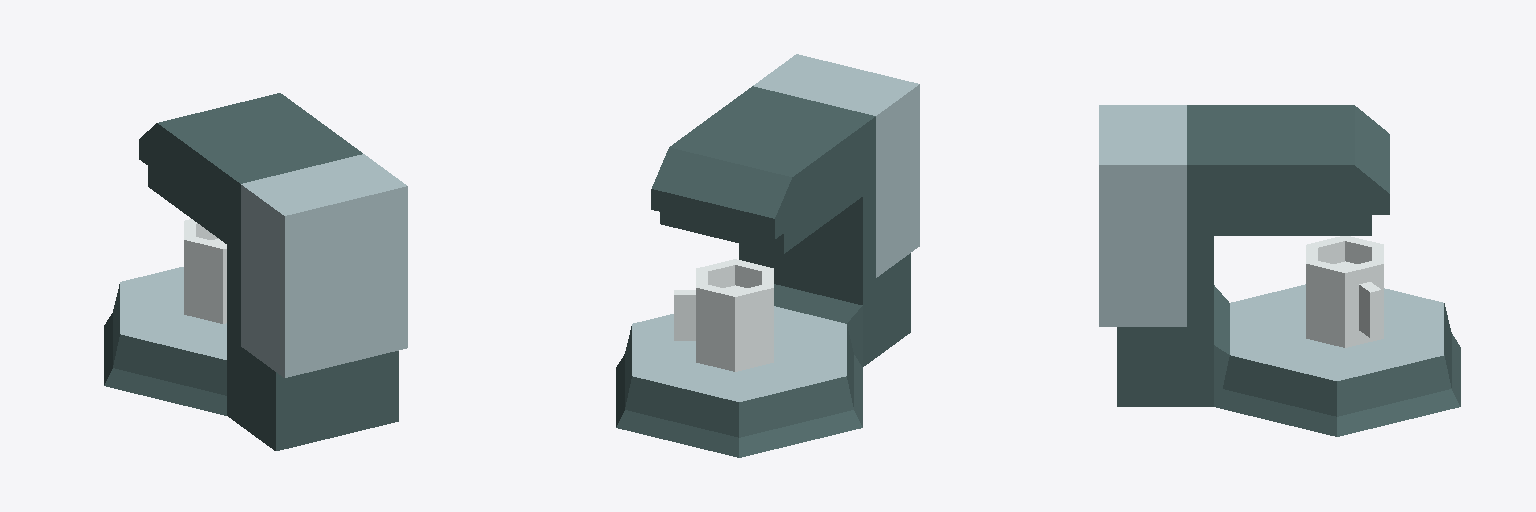
File: kitchenCoffeeMachine.obj
The picture shows the model from 3 angles: view 1: azimuth 30°, elevation 25°; view 2: azimuth 150°, elevation 25°; view 3: azimuth 270°, elevation 25°; orthographic projection.
Visible parts, largest first — view 1: kitchenCoffeeMachine, mug; view 2: kitchenCoffeeMachine, mug; view 3: kitchenCoffeeMachine, mug.
Boxes of the visible parts, box(x1,y1,x2,y2) form: kitchenCoffeeMachine: box(104, 93, 407, 450); mug: box(184, 219, 226, 323); kitchenCoffeeMachine: box(616, 54, 919, 457); mug: box(674, 259, 773, 371); kitchenCoffeeMachine: box(1099, 105, 1460, 436); mug: box(1306, 236, 1383, 347).
Bounding box in the file's own units: 0.1895 × 0.1775 × 0.2402.